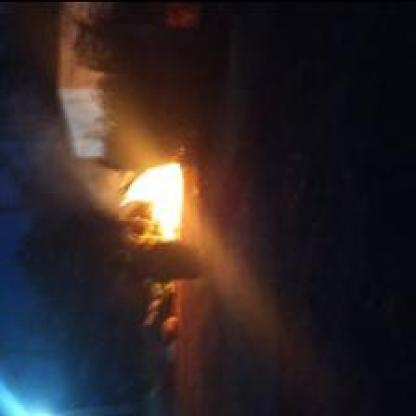Fire: (115, 155, 201, 261)
